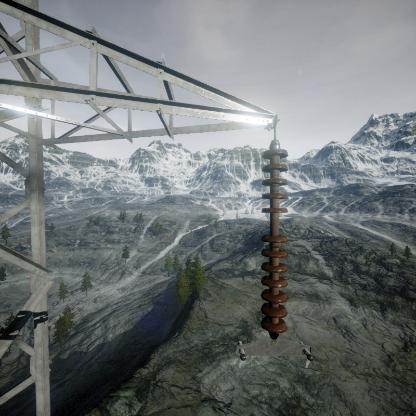insulator: (260, 138, 289, 339)
